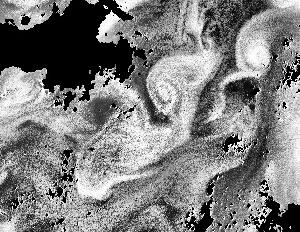CE: (234, 35, 278, 76), (144, 71, 180, 116)
